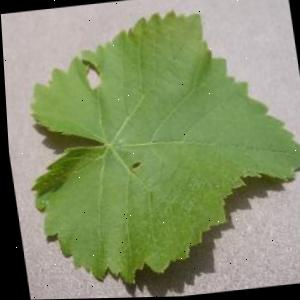Folha: (6, 0, 300, 294)
